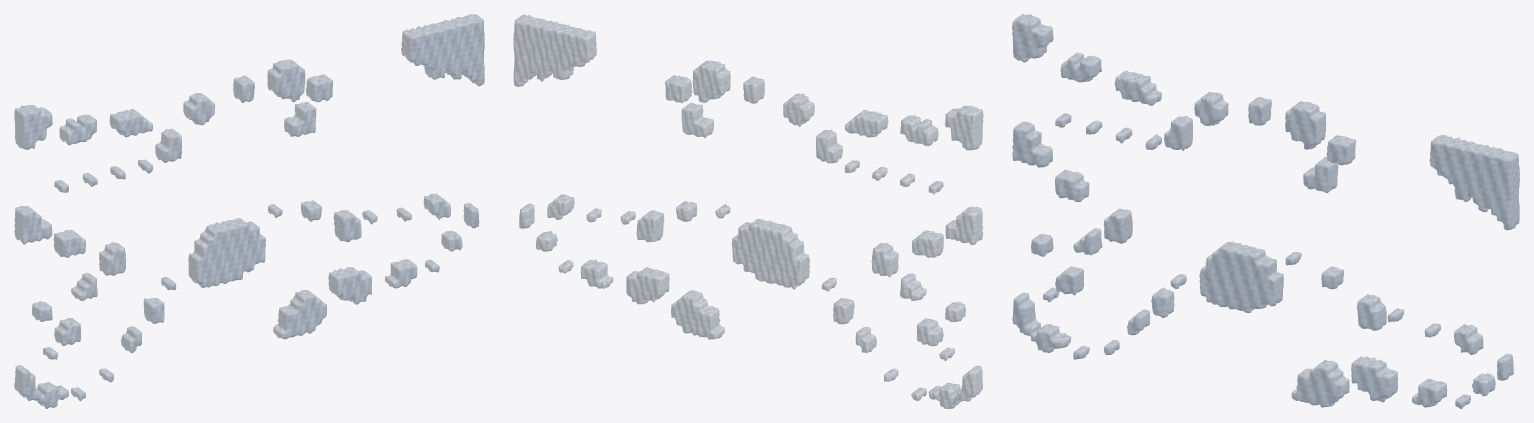
The model's file is Luna0FluttershyNuvemContinua.glb.
3 renders of one model, left to right at view 1: azimuth 30°, elevation 25°; view 2: azimuth 150°, elevation 25°; view 3: azimuth 330°, elevation 25°, orthographic. The views are drawn at different scales.
Visible parts, largest first — view 1: Luna0FluttershyNuvemContinua; view 2: Luna0FluttershyNuvemContinua; view 3: Luna0FluttershyNuvemContinua.
Part boxes in pixels (bbox=[...]): Luna0FluttershyNuvemContinua: bbox=[14, 14, 484, 408]; Luna0FluttershyNuvemContinua: bbox=[513, 14, 983, 408]; Luna0FluttershyNuvemContinua: bbox=[1012, 14, 1519, 408].
Bounding box in the file's own units: 85.69 × 53.59 × 3.55.
